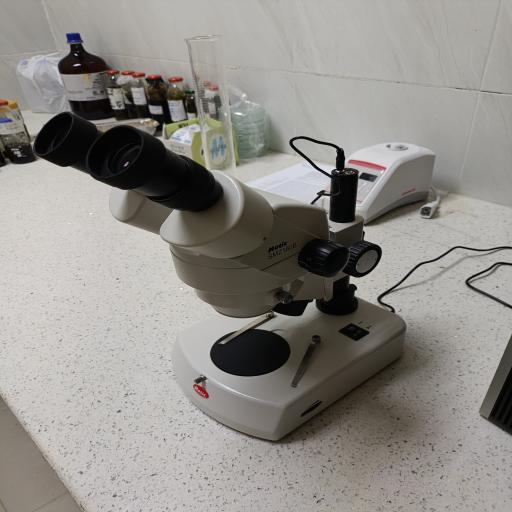Microscopio_estereo: (22, 90, 428, 440)
